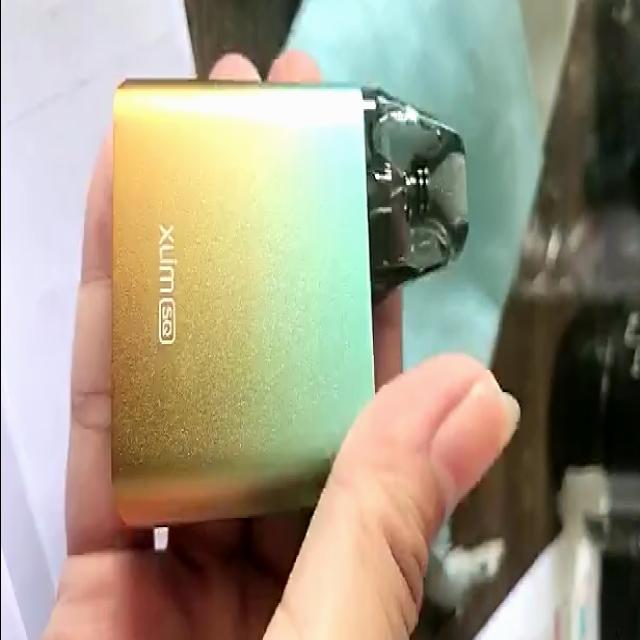Hazard: (110, 84, 468, 525)
